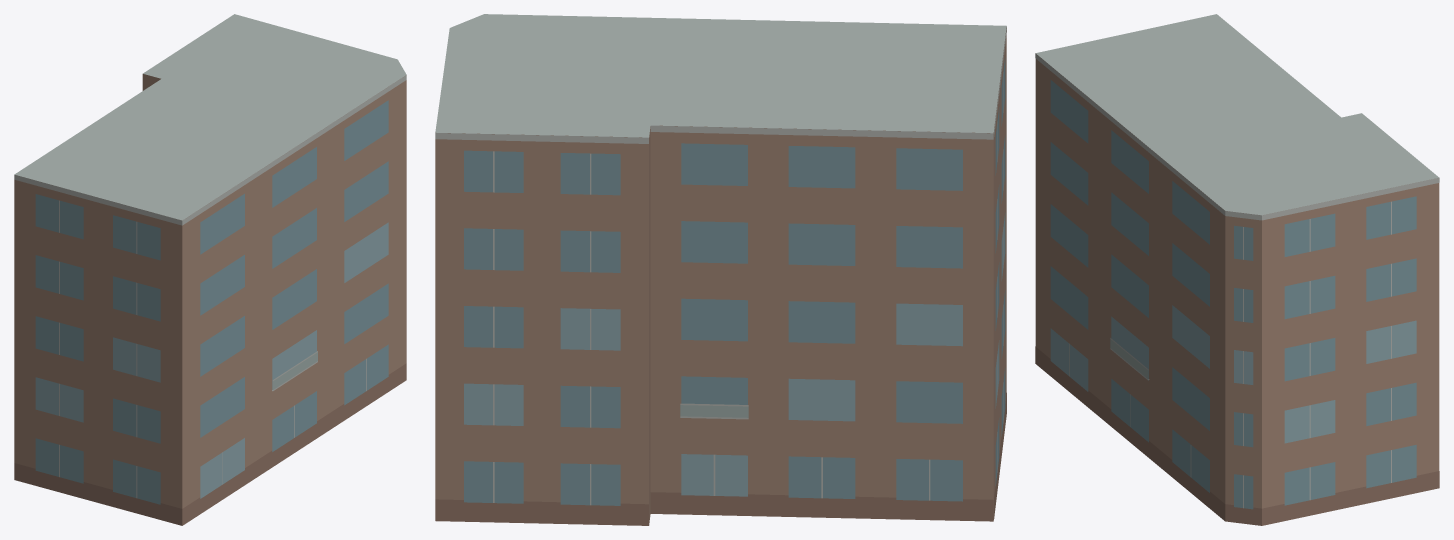
Rendered from survey-upis-32697208.glb.
3 renders of one model, left to right at view 1: azimuth 30°, elevation 25°; view 2: azimuth 150°, elevation 25°; view 3: azimuth 270°, elevation 25°, orthographic. The views are drawn at different scales.
Parts seen in each view (by area): view 1: survey-upis-32697208.tmp; view 2: survey-upis-32697208.tmp; view 3: survey-upis-32697208.tmp.
Part boxes in pixels (bbox=[...]): survey-upis-32697208.tmp: bbox=[14, 14, 406, 525]; survey-upis-32697208.tmp: bbox=[435, 14, 1006, 525]; survey-upis-32697208.tmp: bbox=[1035, 14, 1439, 525].
Size of the model in its own units: 20.45 by 14.7 by 17.34.
